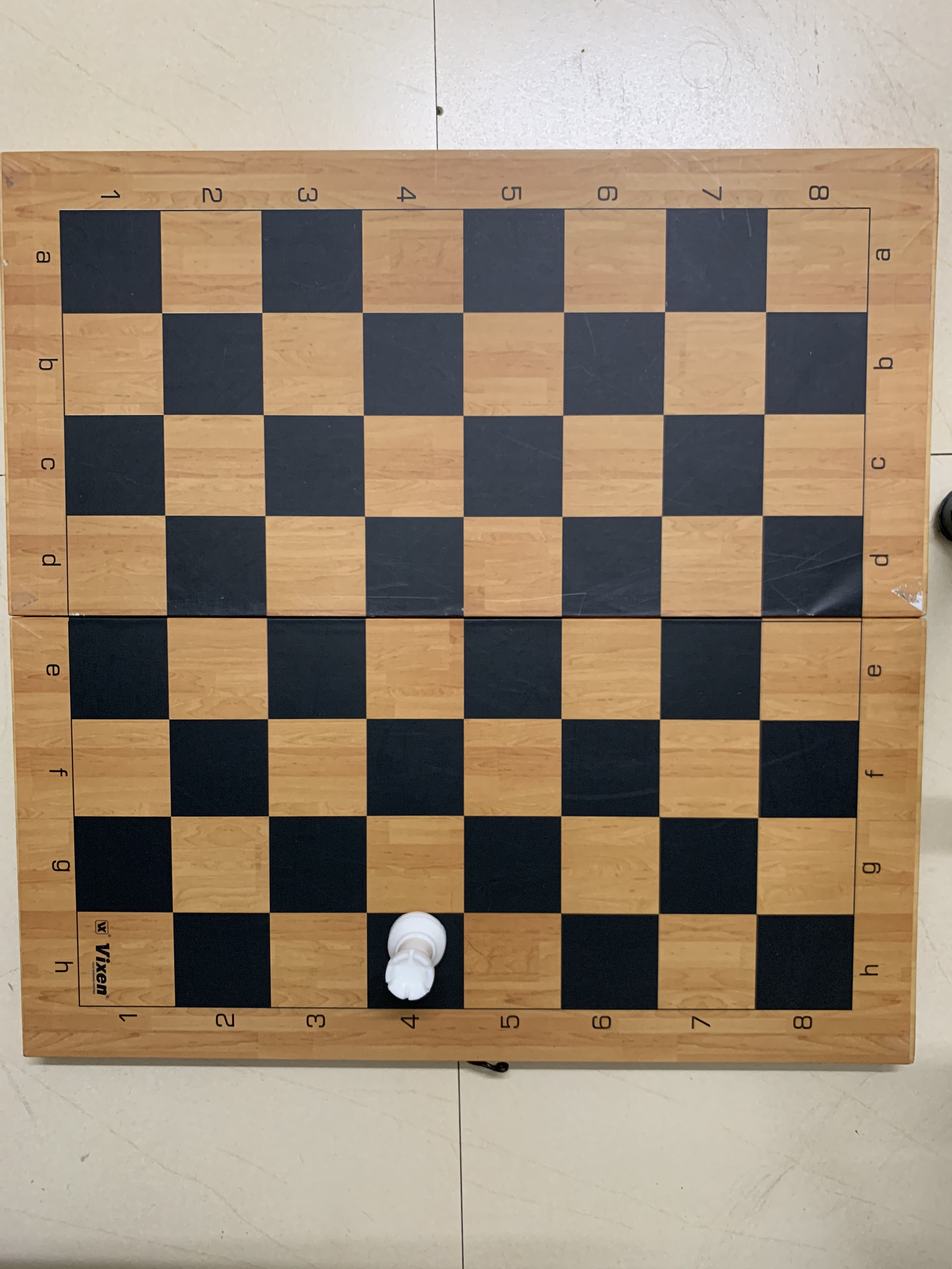white_rook: (365, 920, 463, 1011)
